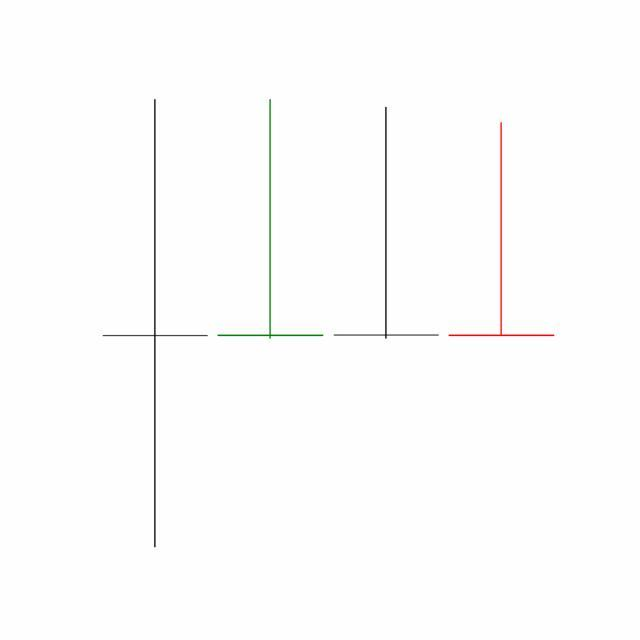Gravestone Doji: (329, 105, 445, 342)
